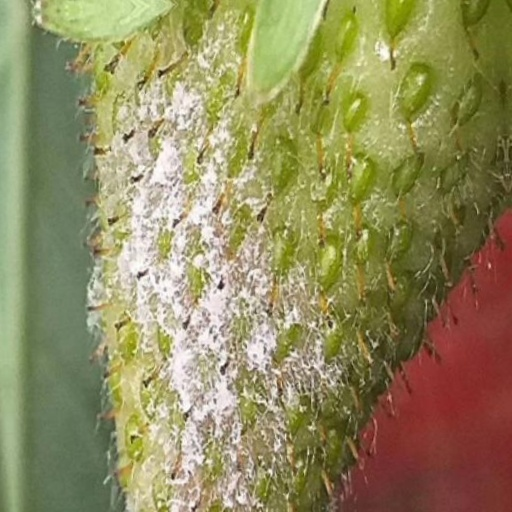Powdery Mildew Fruit: (81, 10, 478, 511)
